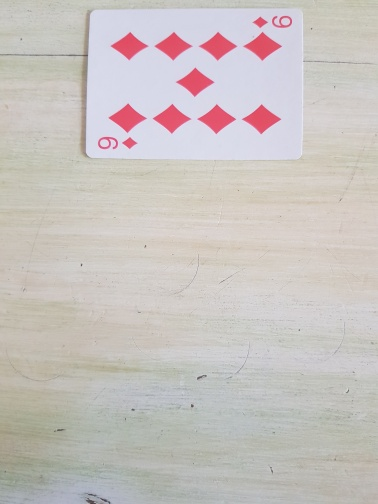nine: (83, 6, 305, 161)
